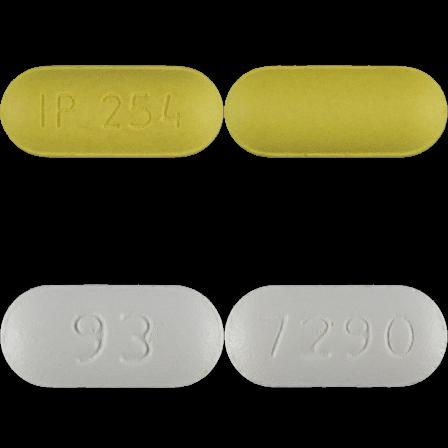42291-725: (0, 0, 224, 224)
